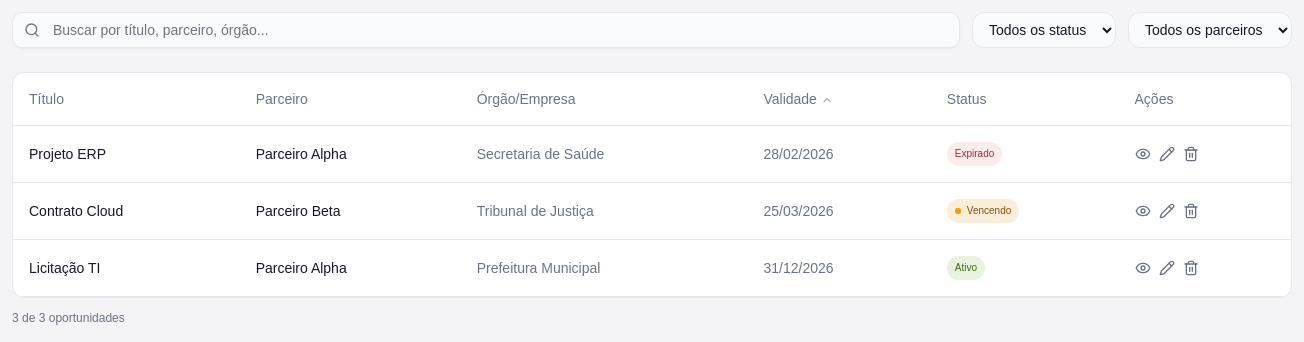
Test case: OportunidadesListClient › filtra por texto de busca
Type "Cloud" into the field with placeholder "Buscar por título, parceiro, órgão..." at (486, 30), box [12,12,960,48]
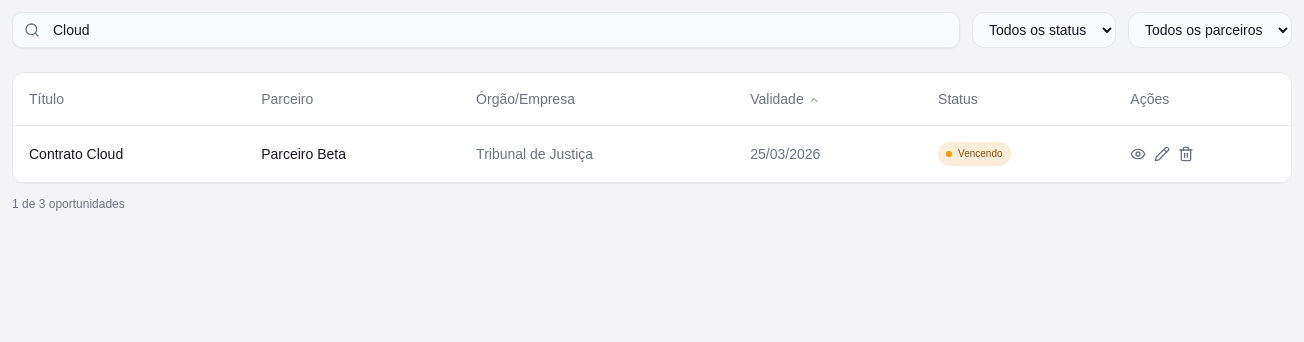
Check: the text "Contrato Cloud" is shown, box [13,126,245,182]
Check: the text "Licitação TI" is gone
Check: the text "1 de 3 oportunidades" is shown, box [12,197,125,211]
